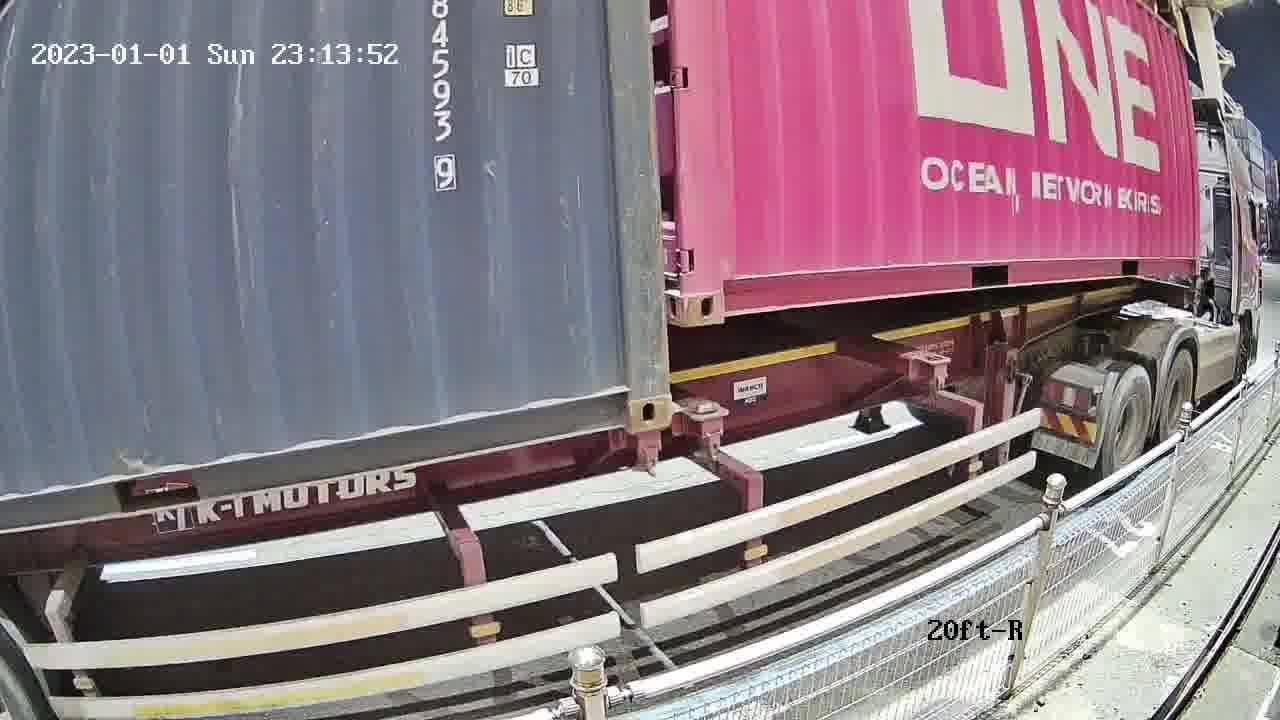Cone: (683, 397, 728, 466), (630, 427, 664, 480)
Hole_L: (682, 244, 758, 327)
Hole_R: (579, 349, 672, 434)
Tire: (1101, 369, 1152, 483), (1160, 353, 1195, 445)
